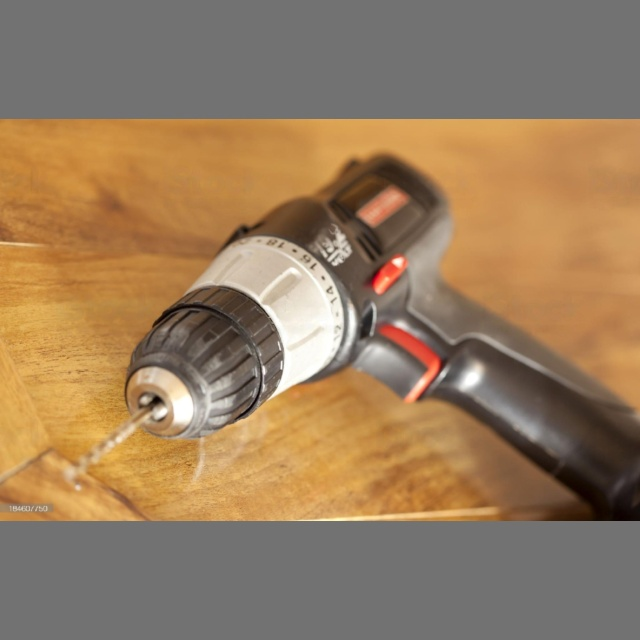drill: (65, 149, 640, 517)
